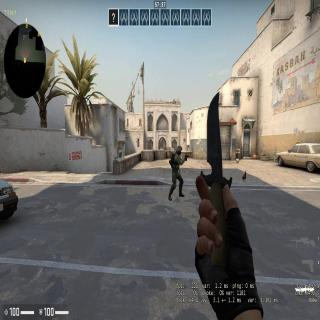CT-Body: (169, 144, 185, 197), (241, 170, 247, 182)
CT-Head: (175, 146, 183, 154)
